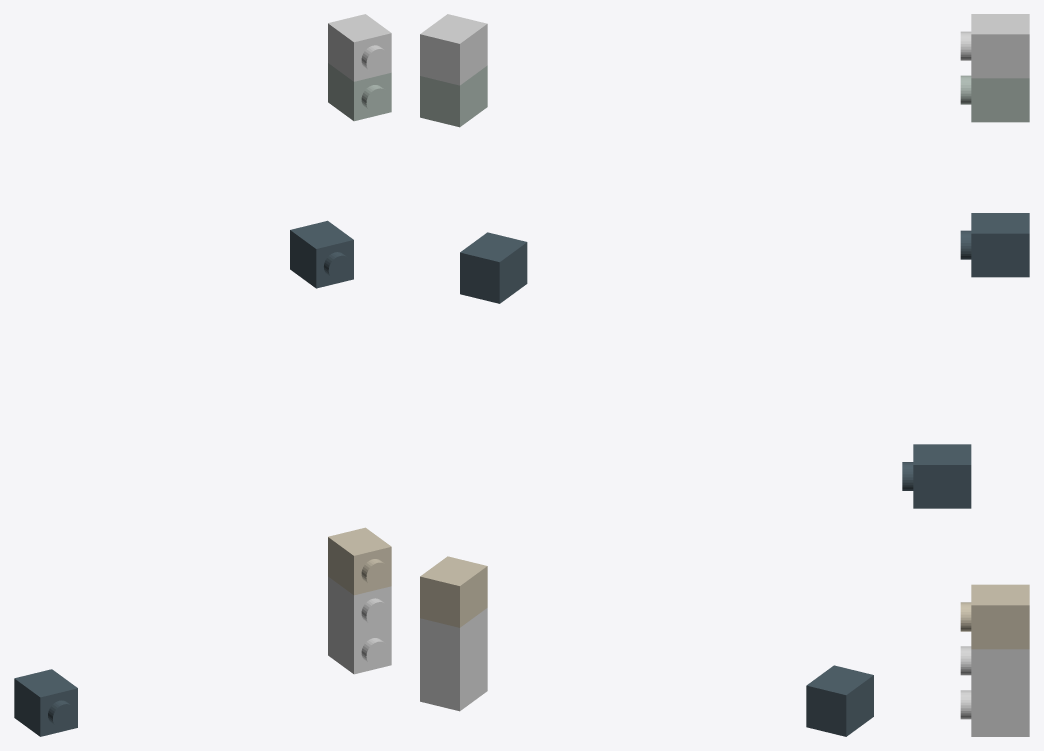
File: current.glb
3 renders of one model, left to right at view 1: azimuth 30°, elevation 25°; view 2: azimuth 150°, elevation 25°; view 3: azimuth 270°, elevation 25°, orthographic. The views are drawn at different scales.
Visible parts, largest first — view 1: world; view 2: world; view 3: world.
Part boxes in pixels (left/top/right/bottom): world: left=14, top=14, right=391, bottom=736; world: left=420, top=14, right=873, bottom=736; world: left=902, top=14, right=1029, bottom=736.
Bounding box in the file's own units: 80 × 128 × 21.
